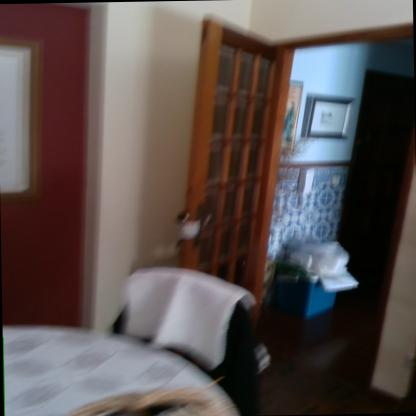open: (164, 4, 415, 415)
